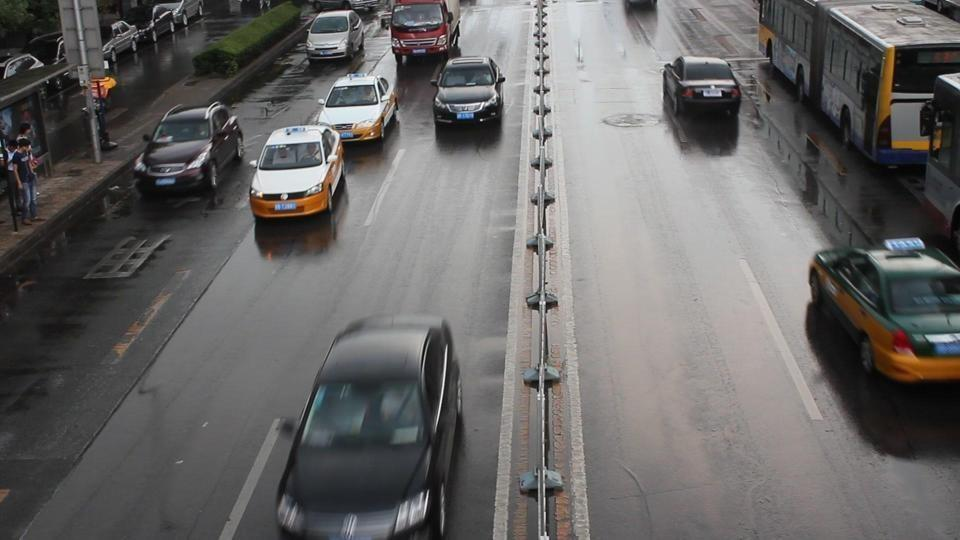car: (274, 312, 465, 538), (806, 242, 960, 385), (132, 102, 246, 199), (248, 125, 347, 219), (316, 72, 401, 143), (431, 55, 506, 125), (662, 55, 742, 118), (389, 0, 460, 63), (304, 10, 366, 64), (0, 52, 43, 80)
